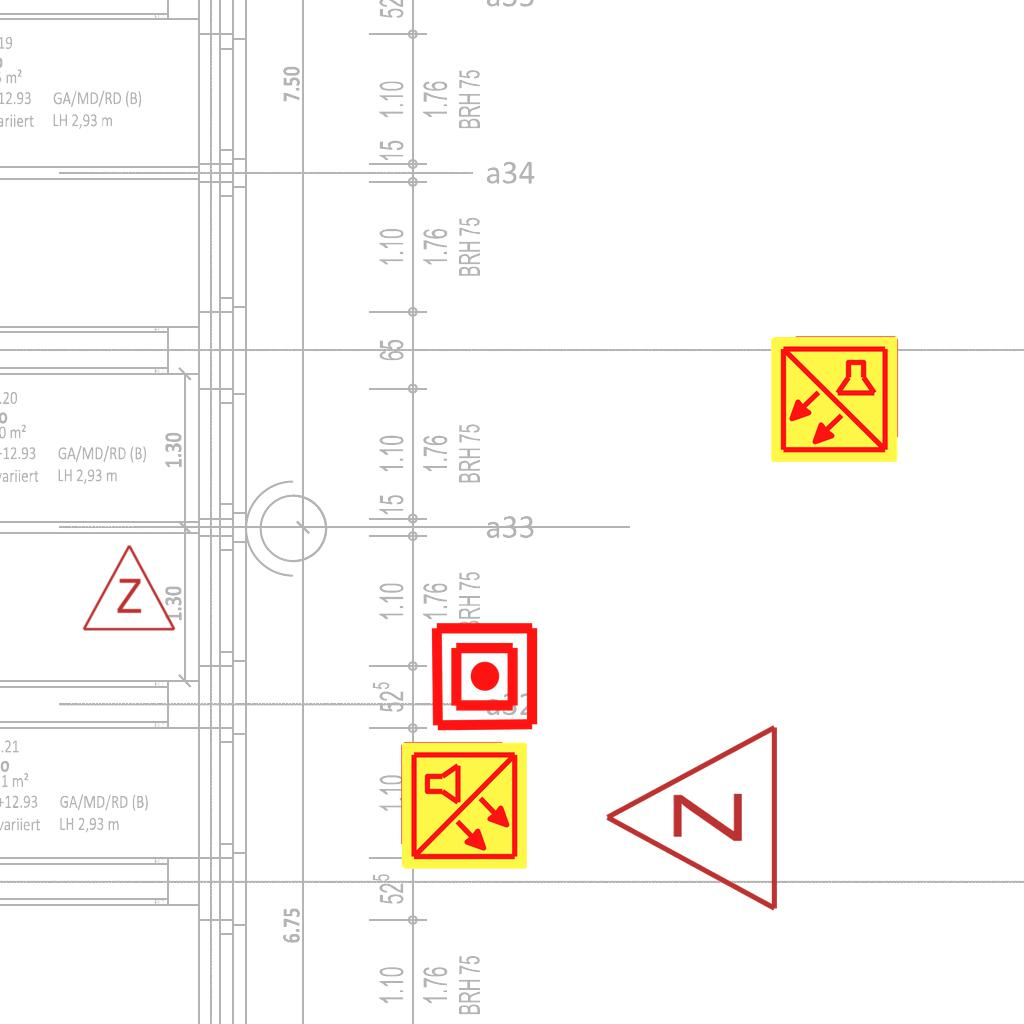NAM-Nichtautomatischer_Melder: (428, 620, 541, 733)
OKW_Multisensormelder_(Kombination_optischer_Rauch-Kahlenmonoxid_Waerme-Melder): (768, 333, 900, 465), (398, 740, 530, 872)
Zimmersignalleuchte: (592, 722, 792, 918), (79, 538, 177, 638)
